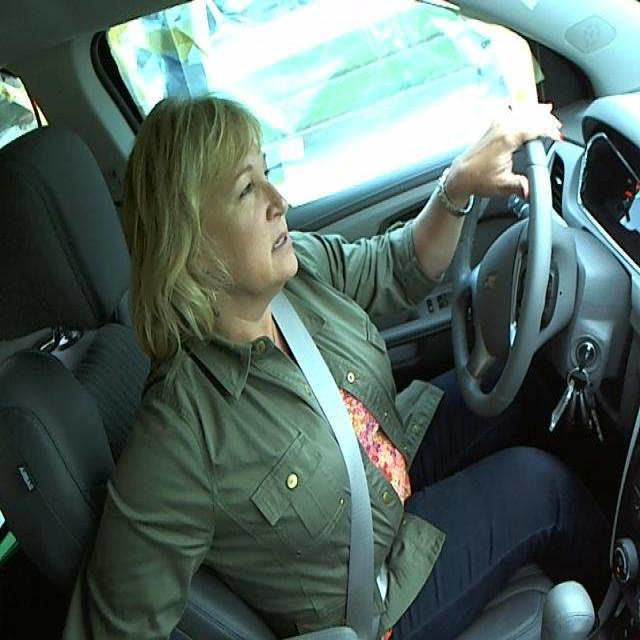seatbelt: (270, 322, 391, 638)
